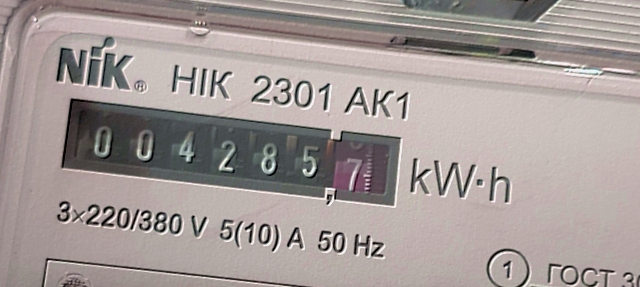0: (132, 125, 158, 164), (90, 122, 115, 160)
2: (215, 137, 239, 175)
4: (176, 128, 198, 164)
5: (296, 141, 322, 180)
7: (340, 155, 364, 193)
8: (255, 139, 281, 178)
screen: (44, 80, 419, 228)
